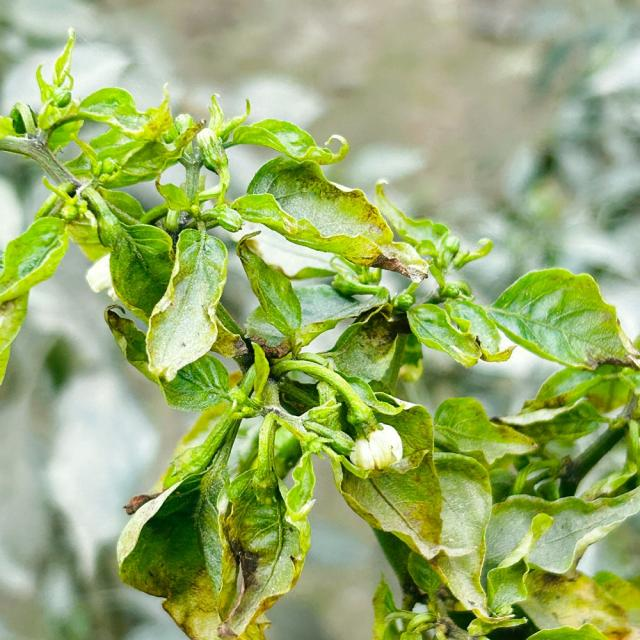Chilli_Leaf_Curl: (1, 27, 638, 638), (230, 154, 396, 270), (482, 266, 638, 372), (144, 225, 228, 382)
